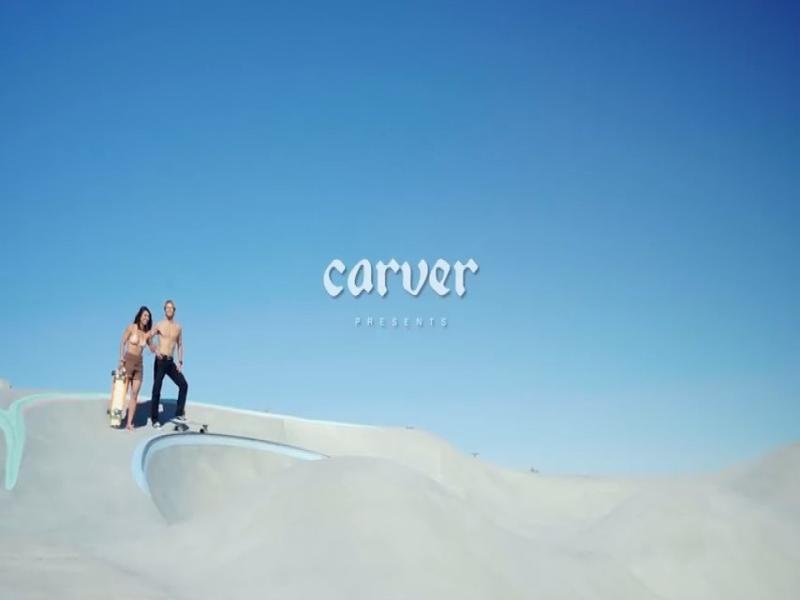person: (148, 300, 188, 428), (123, 352, 142, 381)
skate: (108, 363, 128, 426)
